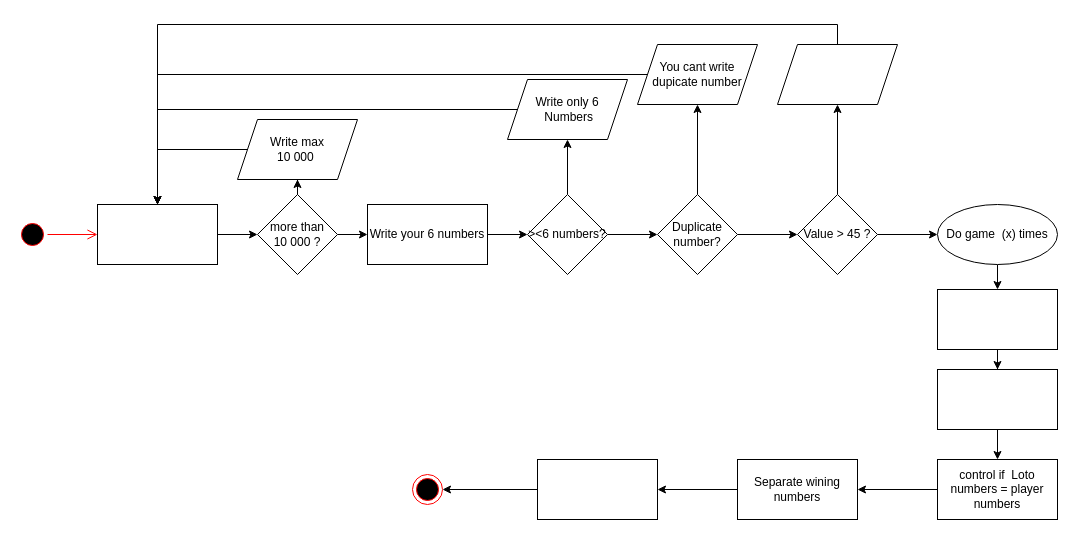
The diagram is 1075 pixels wide and 537 high, and some of its shapes have lost their labels. Each missing label, with the box of its shape:
Control Random Numbers: (936, 368, 1058, 430)
How many times you want play (x): (96, 204, 218, 264)
Print winning list: (536, 458, 658, 520)
Random Loto Numbers: (936, 288, 1058, 350)
Write number only from 1 to 45: (776, 44, 898, 104)
